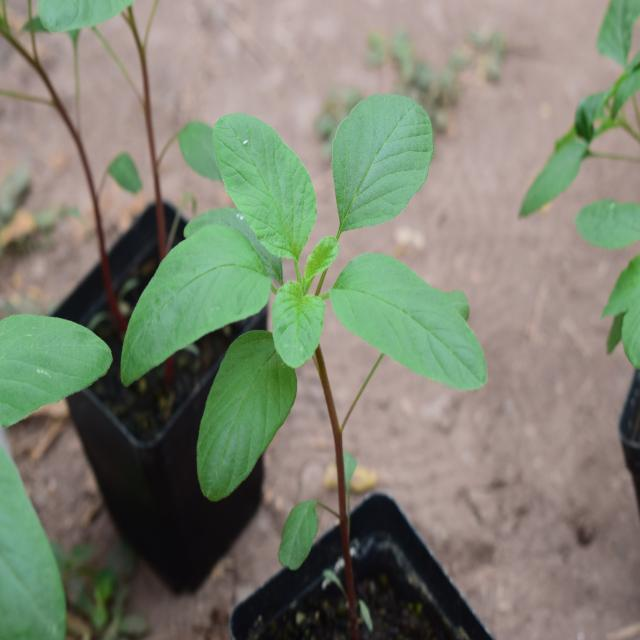pigweed: (119, 88, 475, 463)
